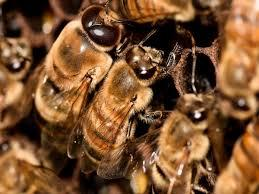worker-bee: (67, 44, 163, 173), (96, 94, 212, 193), (35, 5, 122, 122)
